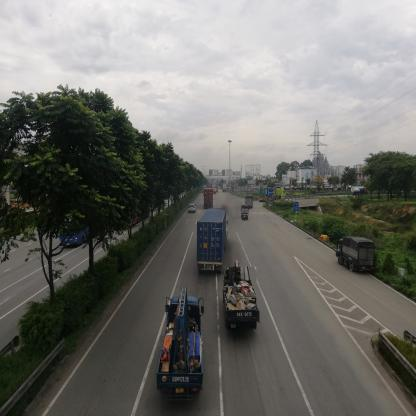car: (188, 206, 197, 215)
container: (198, 210, 227, 271), (260, 189, 287, 204), (203, 190, 216, 210)
truck: (162, 295, 201, 394), (225, 268, 258, 329), (335, 237, 374, 272), (351, 188, 368, 198), (243, 205, 250, 222), (246, 197, 253, 208)
